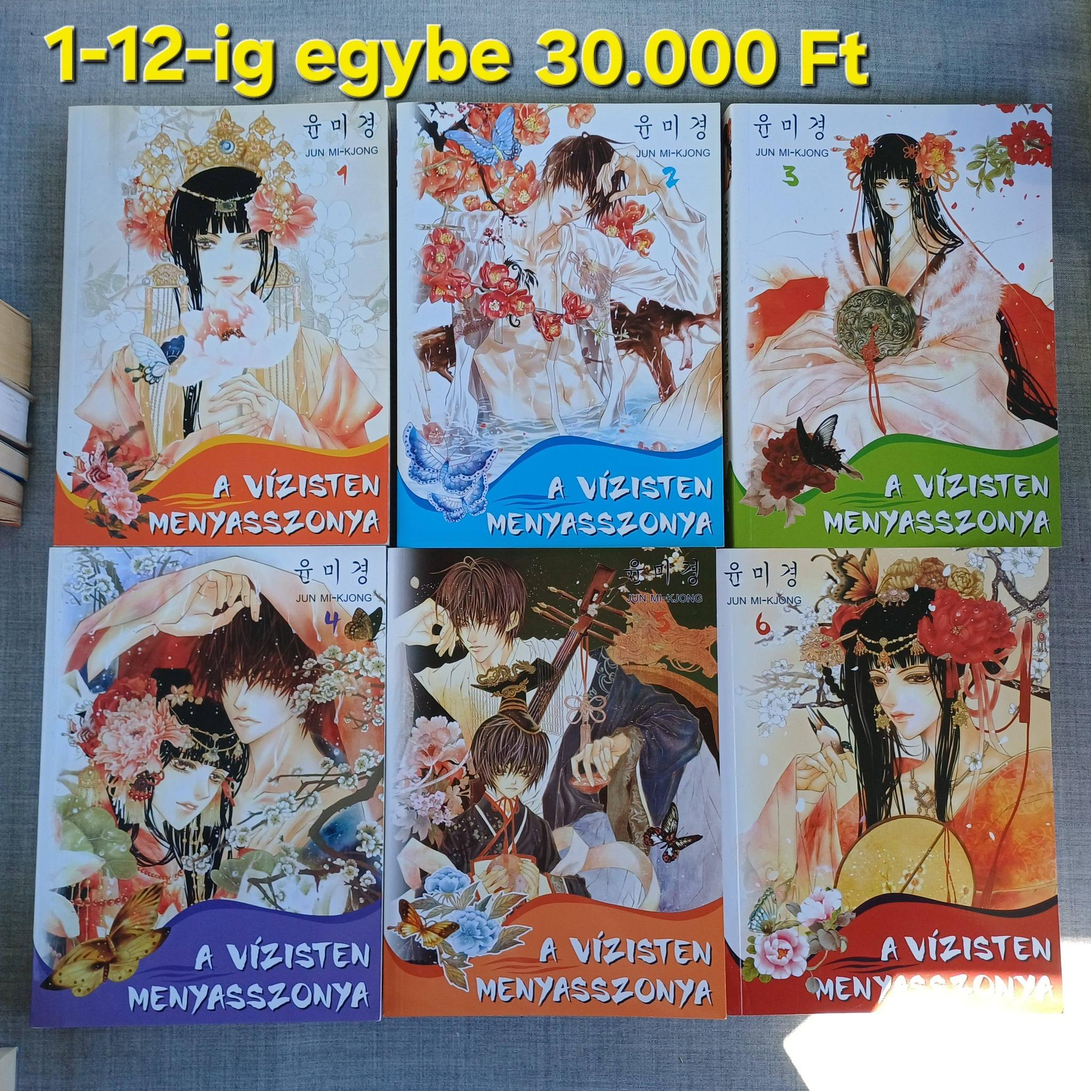comic: (32, 539, 390, 1033), (717, 542, 1061, 1017), (384, 547, 727, 1017), (54, 103, 389, 546), (729, 103, 1060, 551), (396, 103, 723, 547)
